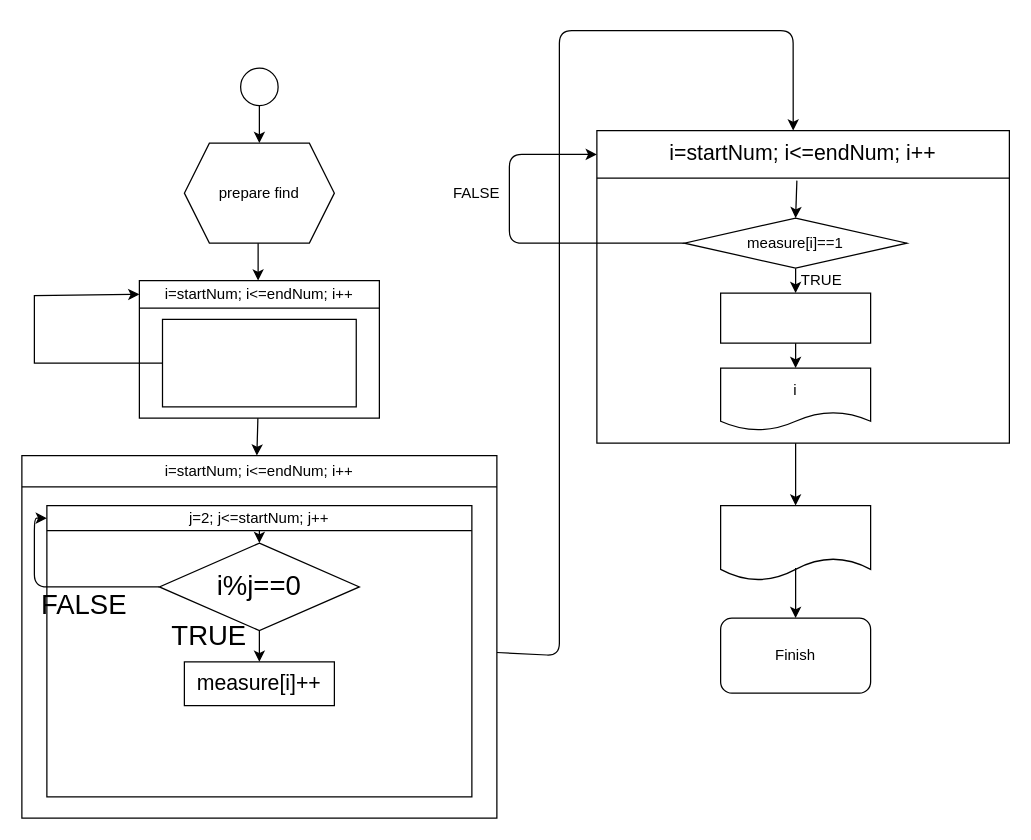
The diagram is 1031 pixels wide and 840 high, and some of its shapes have lost their labels. The box of each missing label's shape, as (x1, y1, x2, y2) in pixels:
cnt: (719, 504, 871, 581)
cnt++: (719, 292, 871, 343)
mearsure[i]=0: (161, 318, 356, 407)
